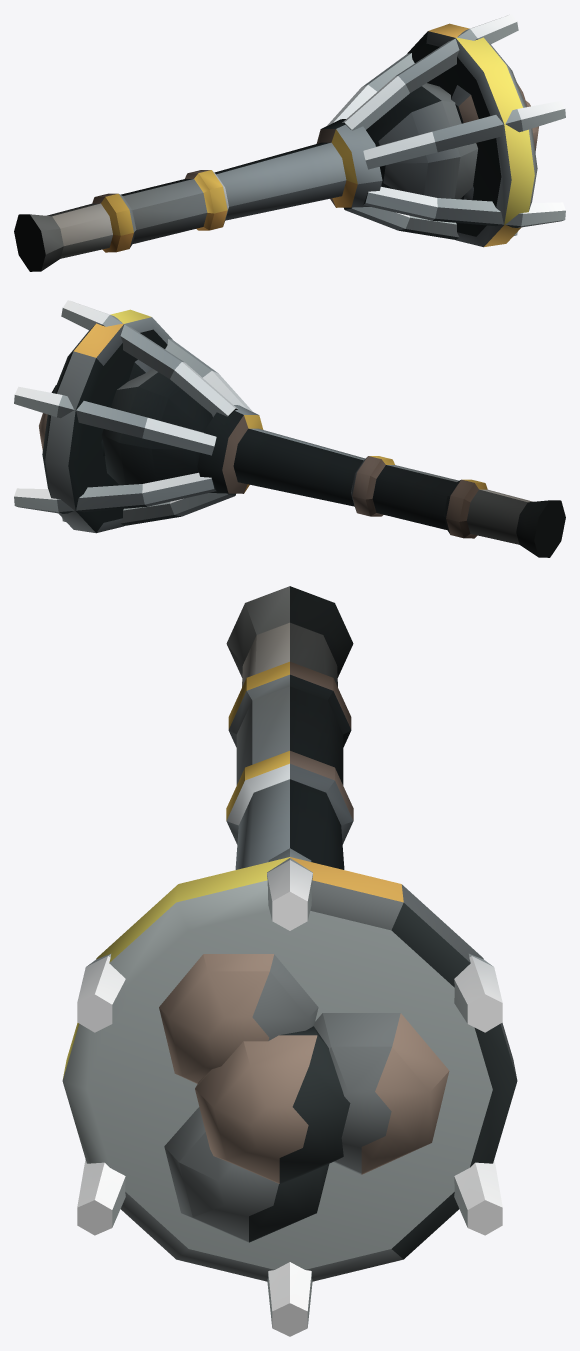
File: tool_torch_iron.glb
3 views of the same model, one above another, from view 1: azimuth 30°, elevation 25°; view 2: azimuth 150°, elevation 25°; view 3: azimuth 270°, elevation 25° (orthographic). The views are drawn at different scales.
Visible parts, largest first — view 1: Item; view 2: Item; view 3: Item.
Part boxes in pixels (x1,y1,x2,y2): Item: [14, 14, 565, 271]; Item: [14, 300, 565, 557]; Item: [62, 586, 517, 1336].
Size of the model in its own units: 1.13 by 0.4795 by 0.444.
4 materials, 4 textured.
